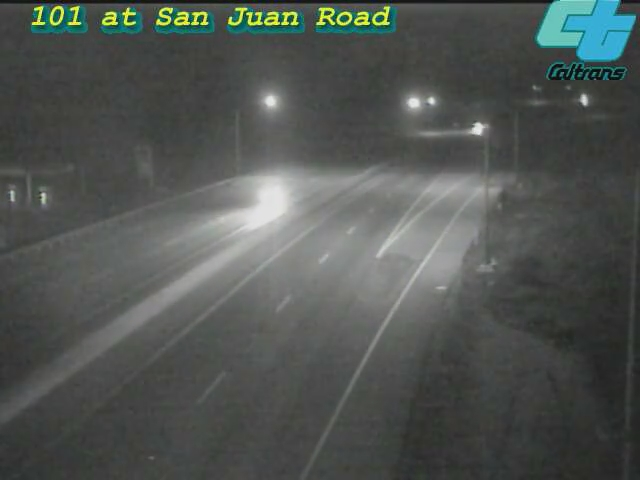vehicle: (234, 156, 314, 236), (454, 104, 504, 154)
